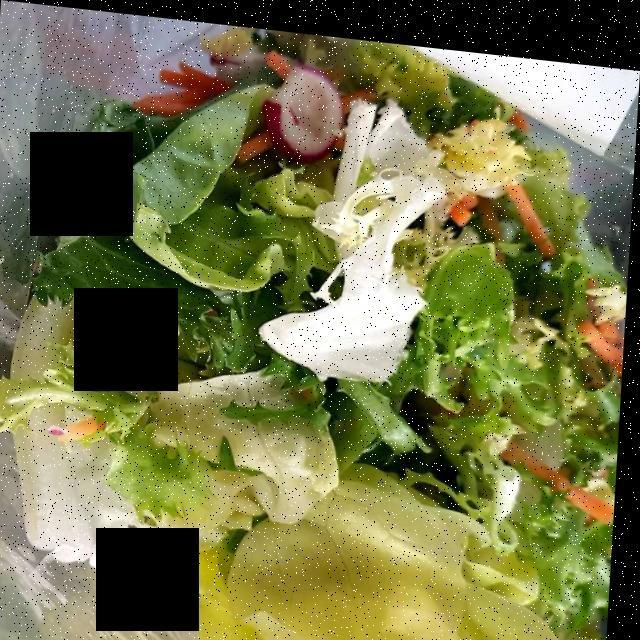salad: (25, 58, 597, 640)
